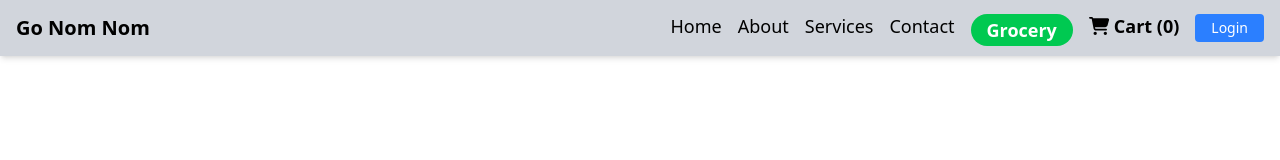
Scenario: Shoud chnage Login button to Logout on click
Click the button "Login" at point(1230, 28), box [1195,14,1264,42]
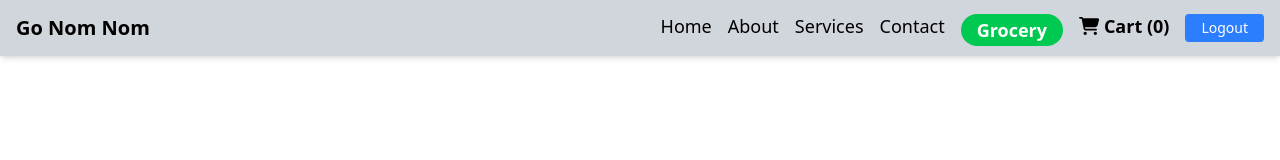
Check: the button "Logout" is shown, box [1185,14,1264,42]
